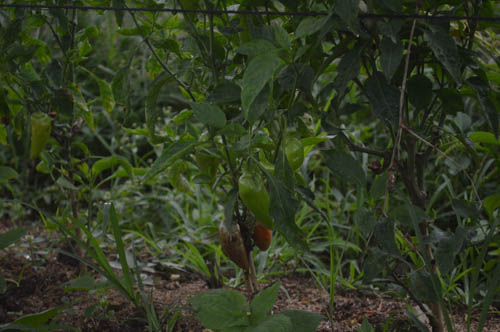ChiliPepper: (26, 113, 55, 159), (240, 172, 266, 222)
